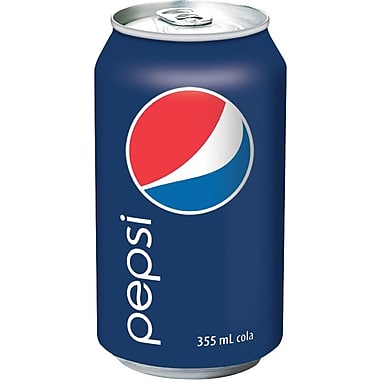pepsi: (125, 87, 250, 211)
